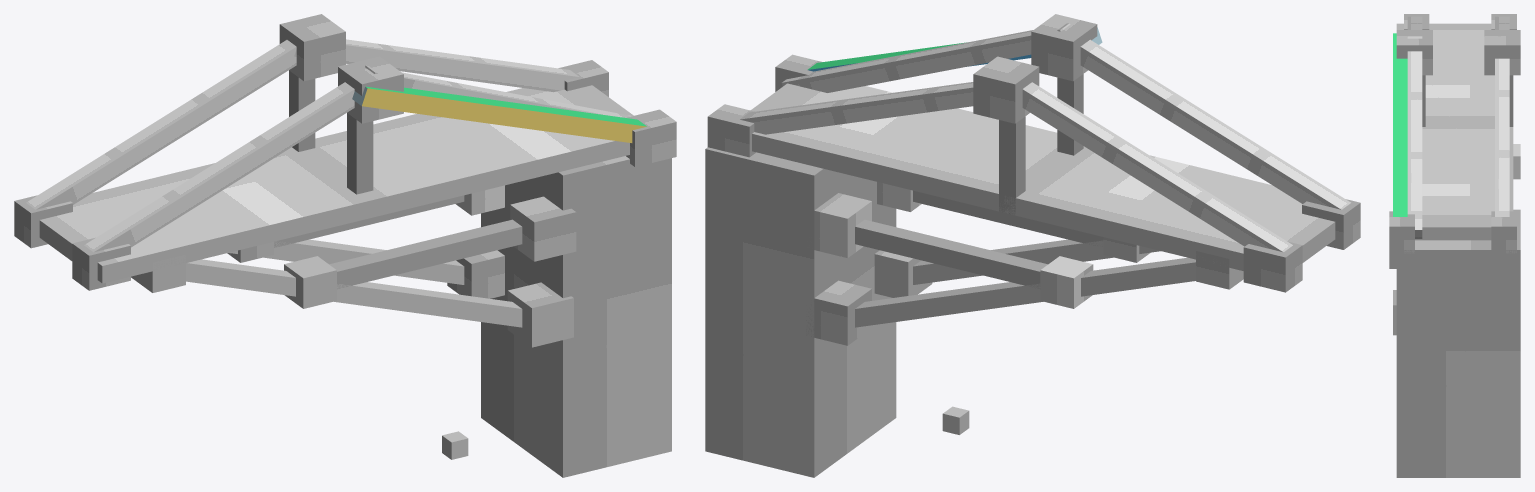
3 views of the same model, side by side, from view 1: azimuth 30°, elevation 25°; view 2: azimuth 150°, elevation 25°; view 3: azimuth 270°, elevation 25° (orthographic). The views are drawn at different scales.
Visible parts, largest first — view 1: 5c9a9842-9fca-f12f-f650-7d48804856a9_0, e66b16bf-e090-b12f-2970-f27247193e4b_28, e2b671b0-9d65-3db0-89d0-6e02bb9b7323_11, 387cbc08-4367-e851-0710-91285156ab53_15, 1aac34b3-eb35-6ebe-0720-8bb2d03ce65b_27, 483837ae-377e-807d-e650-40b147dbd6a0_33, 0a4d4c9e-b635-d382-0045-82265f856bc2_14, 8fb5f3c0-bae5-f278-245f-b59bb3b100f9_26, 899453a3-1218-ccec-c84e-07ac44f579ec_4, 5b46dfac-c509-f4a6-ae7f-dbeb131fbc9f_24, 0671e2fd-fcd6-0fa4-f5e6-1730e96ee2a6_5, 8437e01f-976c-d859-e0e3-05d5158b669e_29 (+13 smaller); view 2: 5c9a9842-9fca-f12f-f650-7d48804856a9_0, e66b16bf-e090-b12f-2970-f27247193e4b_28, e2b671b0-9d65-3db0-89d0-6e02bb9b7323_11, 387cbc08-4367-e851-0710-91285156ab53_15, 8437e01f-976c-d859-e0e3-05d5158b669e_29, b930e405-e443-2d44-bff0-1c12aba337d5_12, 0a4d4c9e-b635-d382-0045-82265f856bc2_14, d76b7427-32d7-b61a-8334-e488d7b409e1_19, 5b46dfac-c509-f4a6-ae7f-dbeb131fbc9f_24, f22a48cd-e3b6-64c4-2130-7f99e517a0b4_25, 1aac34b3-eb35-6ebe-0720-8bb2d03ce65b_27, f54b8c76-2606-e650-9b03-efd2715b5165_18 (+14 smaller); view 3: 5c9a9842-9fca-f12f-f650-7d48804856a9_0, e66b16bf-e090-b12f-2970-f27247193e4b_28, b930e405-e443-2d44-bff0-1c12aba337d5_12, 483837ae-377e-807d-e650-40b147dbd6a0_33, 0a4d4c9e-b635-d382-0045-82265f856bc2_14, 5b46dfac-c509-f4a6-ae7f-dbeb131fbc9f_24, f22a48cd-e3b6-64c4-2130-7f99e517a0b4_25, 16c10bc0-9901-c48c-169a-9c9b11ad11af_21, 1c459185-f96b-47c9-bda0-61a8404afd79_20, 9ce8748b-c211-affc-cda7-9daa83a0e8a9_1, b6797312-9e21-5af9-18ec-5d188b10873a_16, aecf34ee-d796-65aa-4314-a8789a3d3af5_22 (+5 smaller).
Part boxes in pixels (x1,y1,x2,y2): 5c9a9842-9fca-f12f-f650-7d48804856a9_0: (481,156,671,477); e66b16bf-e090-b12f-2970-f27247193e4b_28: (39,85,633,283); e2b671b0-9d65-3db0-89d0-6e02bb9b7323_11: (84,82,354,252); 387cbc08-4367-e851-0710-91285156ab53_15: (26,40,296,209); 1aac34b3-eb35-6ebe-0720-8bb2d03ce65b_27: (186,259,522,327); 483837ae-377e-807d-e650-40b147dbd6a0_33: (352,86,646,142); 0a4d4c9e-b635-d382-0045-82265f856bc2_14: (294,39,579,92); 8fb5f3c0-bae5-f278-245f-b59bb3b100f9_26: (329,219,522,289); 899453a3-1218-ccec-c84e-07ac44f579ec_4: (510,196,576,261); 5b46dfac-c509-f4a6-ae7f-dbeb131fbc9f_24: (279,14,345,81); 0671e2fd-fcd6-0fa4-f5e6-1730e96ee2a6_5: (507,282,573,347); 8437e01f-976c-d859-e0e3-05d5158b669e_29: (229,239,464,284); 5c9a9842-9fca-f12f-f650-7d48804856a9_0: (705,147,896,477); e66b16bf-e090-b12f-2970-f27247193e4b_28: (750,83,1335,270); e2b671b0-9d65-3db0-89d0-6e02bb9b7323_11: (1080,39,1350,209); 387cbc08-4367-e851-0710-91285156ab53_15: (1022,82,1292,252); 8437e01f-976c-d859-e0e3-05d5158b669e_29: (855,257,1195,327); b930e405-e443-2d44-bff0-1c12aba337d5_12: (781,23,1070,92); 0a4d4c9e-b635-d382-0045-82265f856bc2_14: (740,82,1024,134); d76b7427-32d7-b61a-8334-e488d7b409e1_19: (855,219,1047,288); 5b46dfac-c509-f4a6-ae7f-dbeb131fbc9f_24: (973,56,1039,123); f22a48cd-e3b6-64c4-2130-7f99e517a0b4_25: (1031,14,1097,81); 1aac34b3-eb35-6ebe-0720-8bb2d03ce65b_27: (913,239,1160,284); f54b8c76-2606-e650-9b03-efd2715b5165_18: (806,280,871,345); 5c9a9842-9fca-f12f-f650-7d48804856a9_0: (1396,209,1520,477); e66b16bf-e090-b12f-2970-f27247193e4b_28: (1396,23,1513,240); b930e405-e443-2d44-bff0-1c12aba337d5_12: (1407,36,1422,238); 483837ae-377e-807d-e650-40b147dbd6a0_33: (1393,33,1407,216); 0a4d4c9e-b635-d382-0045-82265f856bc2_14: (1495,58,1509,216); 5b46dfac-c509-f4a6-ae7f-dbeb131fbc9f_24: (1484,30,1520,75); f22a48cd-e3b6-64c4-2130-7f99e517a0b4_25: (1396,30,1432,75); 16c10bc0-9901-c48c-169a-9c9b11ad11af_21: (1491,211,1516,253); 1c459185-f96b-47c9-bda0-61a8404afd79_20: (1389,211,1414,253); 9ce8748b-c211-affc-cda7-9daa83a0e8a9_1: (1513,144,1520,179); b6797312-9e21-5af9-18ec-5d188b10873a_16: (1509,75,1513,126); aecf34ee-d796-65aa-4314-a8789a3d3af5_22: (1404,14,1429,29).
Bounding box in the file's own units: 2.16 × 1.58 × 0.5625.
Materials: 7 (7 with a texture image).
